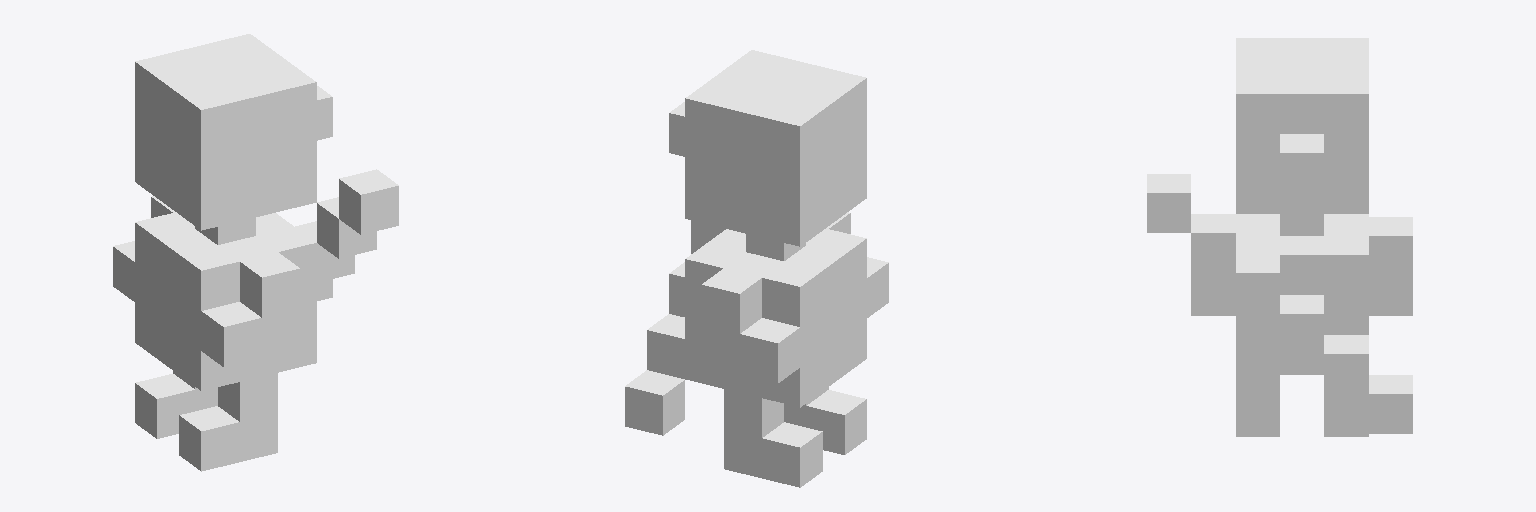
Rendered from tlc_ninja.obj.
The picture shows the model from 3 angles: view 1: azimuth 30°, elevation 25°; view 2: azimuth 150°, elevation 25°; view 3: azimuth 270°, elevation 25°; orthographic projection.
Parts seen in each view (by area): view 1: object 1; view 2: object 1; view 3: object 1.
Part boxes in pixels (bbox=[...]): object 1: bbox=[113, 34, 398, 471]; object 1: bbox=[625, 50, 888, 487]; object 1: bbox=[1147, 38, 1412, 436].
Size of the model in its own units: 0.4 by 0.9 by 0.6.